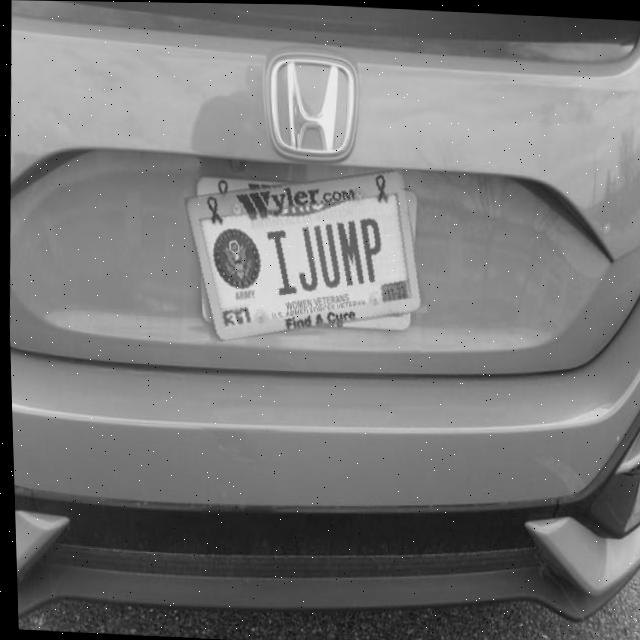LicensePlate: (182, 168, 419, 342)
